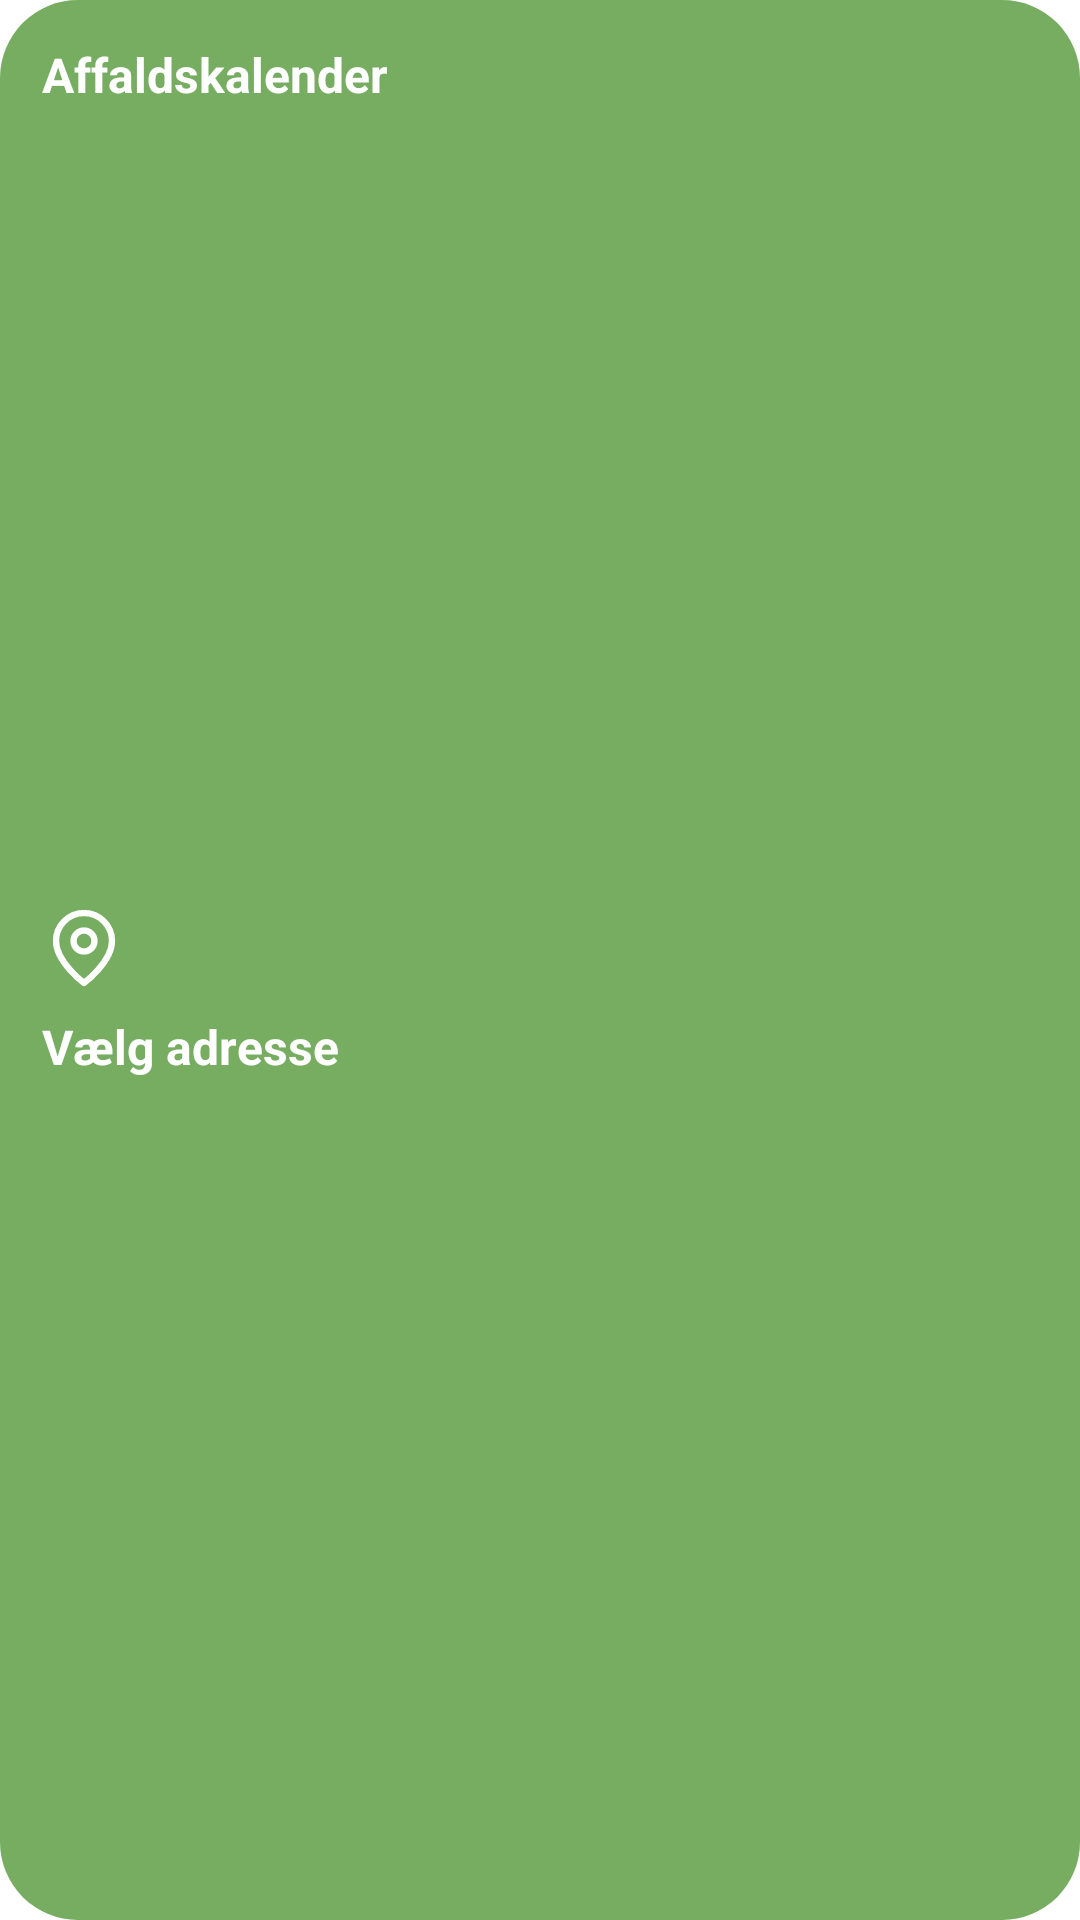

Screen size 1080px×1920px. Icon name, then its center in pixels as (x=x, y=y):
municipality recycling location: (x=84, y=948)
